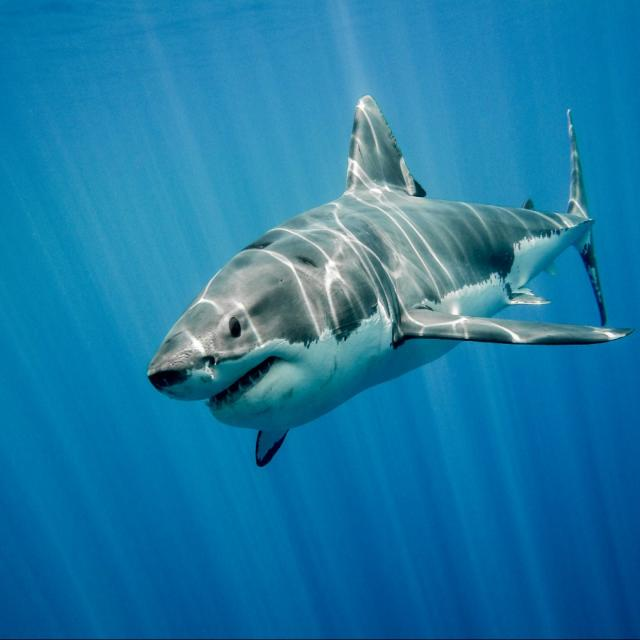shark: (147, 96, 633, 465)
